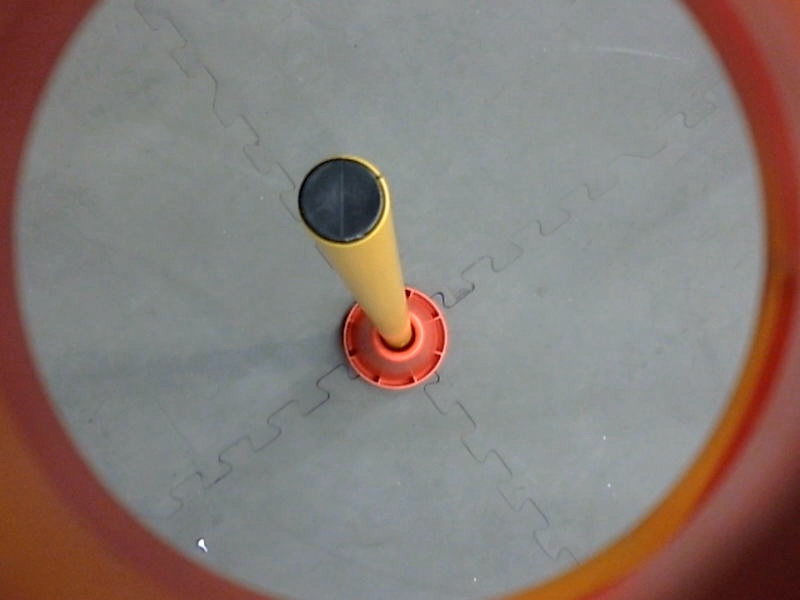tip: (291, 150, 394, 251)
